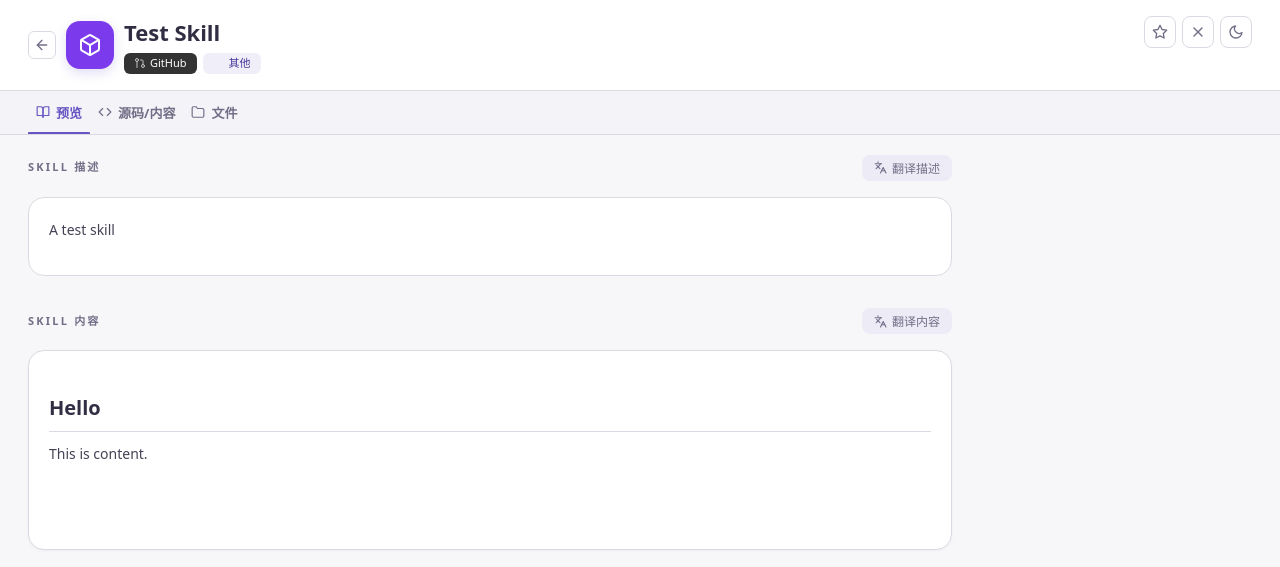
it: SkillDetailBase › switching to source tab shows metadata
Step 1. Click the button "源码/内容" → (137, 112), box [90,90,183,134]
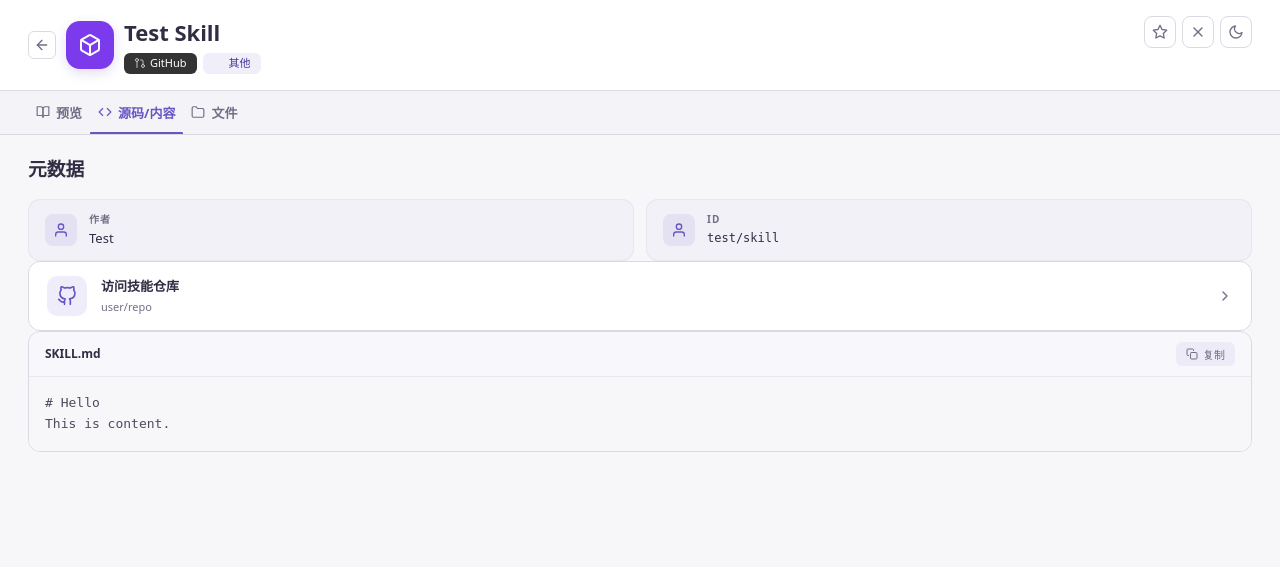
Check: the heading with class "section-heading" reads "元数据", box [28,156,84,180]
